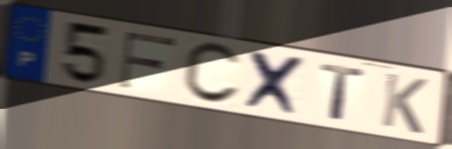5: (61, 17, 111, 87)
C: (180, 41, 245, 107)
F: (116, 29, 180, 91)
K: (378, 70, 431, 137)
T: (318, 61, 367, 124)
X: (241, 47, 311, 120)
